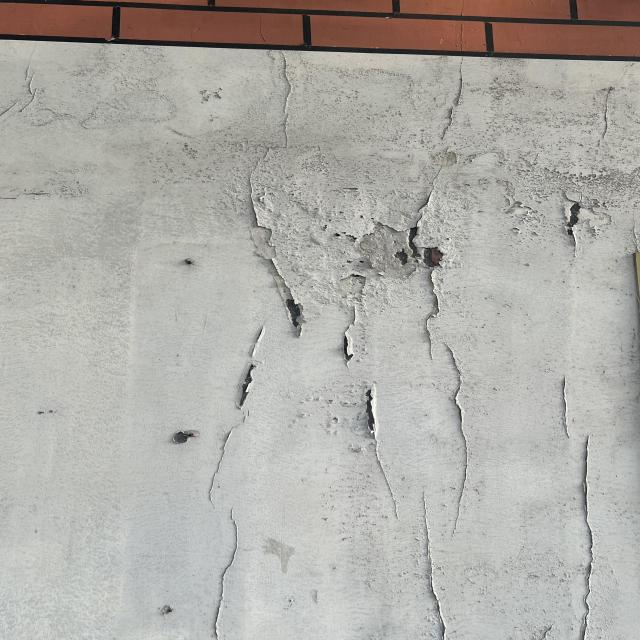crack: (348, 380, 454, 636), (196, 354, 272, 640), (415, 298, 484, 532), (218, 187, 313, 352), (549, 372, 601, 640)
spalling: (325, 212, 471, 298), (554, 187, 591, 258), (156, 415, 206, 452)
